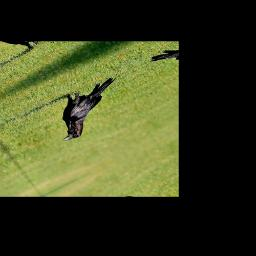Crow: (36, 71, 139, 145)
